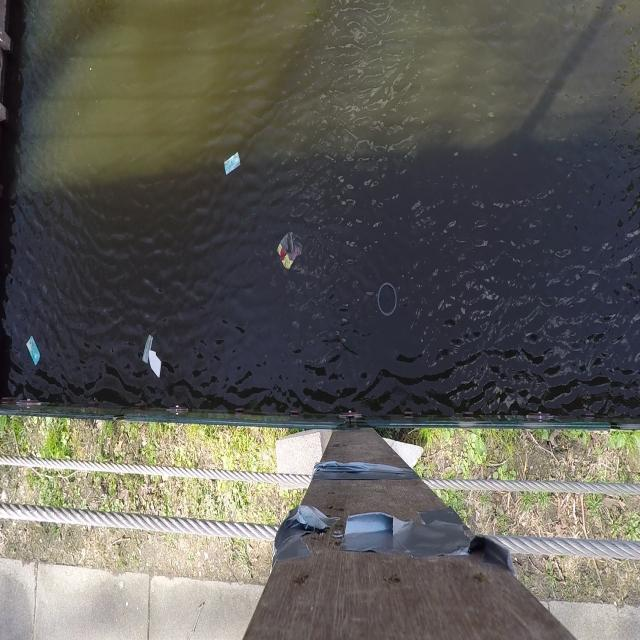Non plastique: (222, 147, 246, 184)
Sac plastique: (274, 230, 306, 277)
